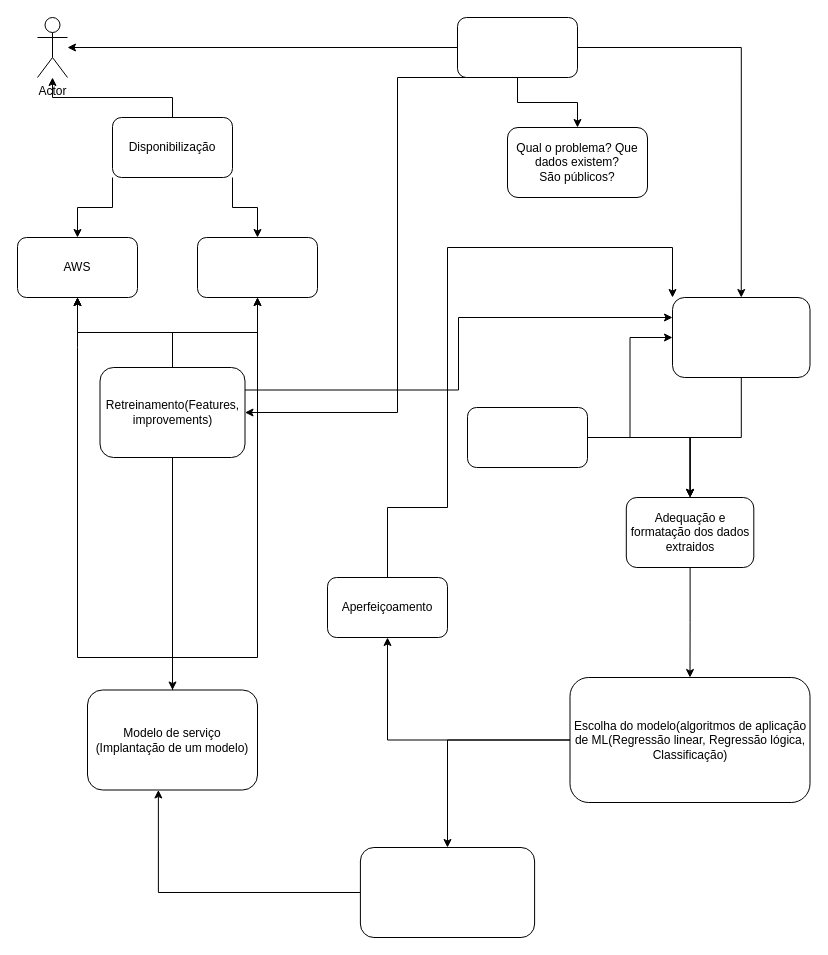
This 828x955 diagram has some shape labels left out. The shapes that lost their labels are listed below. From the top down, each one's centre as x and y in pixels, then its label:
(x=517, y=47): Conhecimento dos dados
(x=257, y=267): Google Clound
(x=741, y=337): Pŕe processamento e seleção de váriaveis
(x=527, y=437): Limpeza de dados obsoletos ou inutilizáveis
(x=447, y=892): Médição de resultados(Análise e Avaliação)
